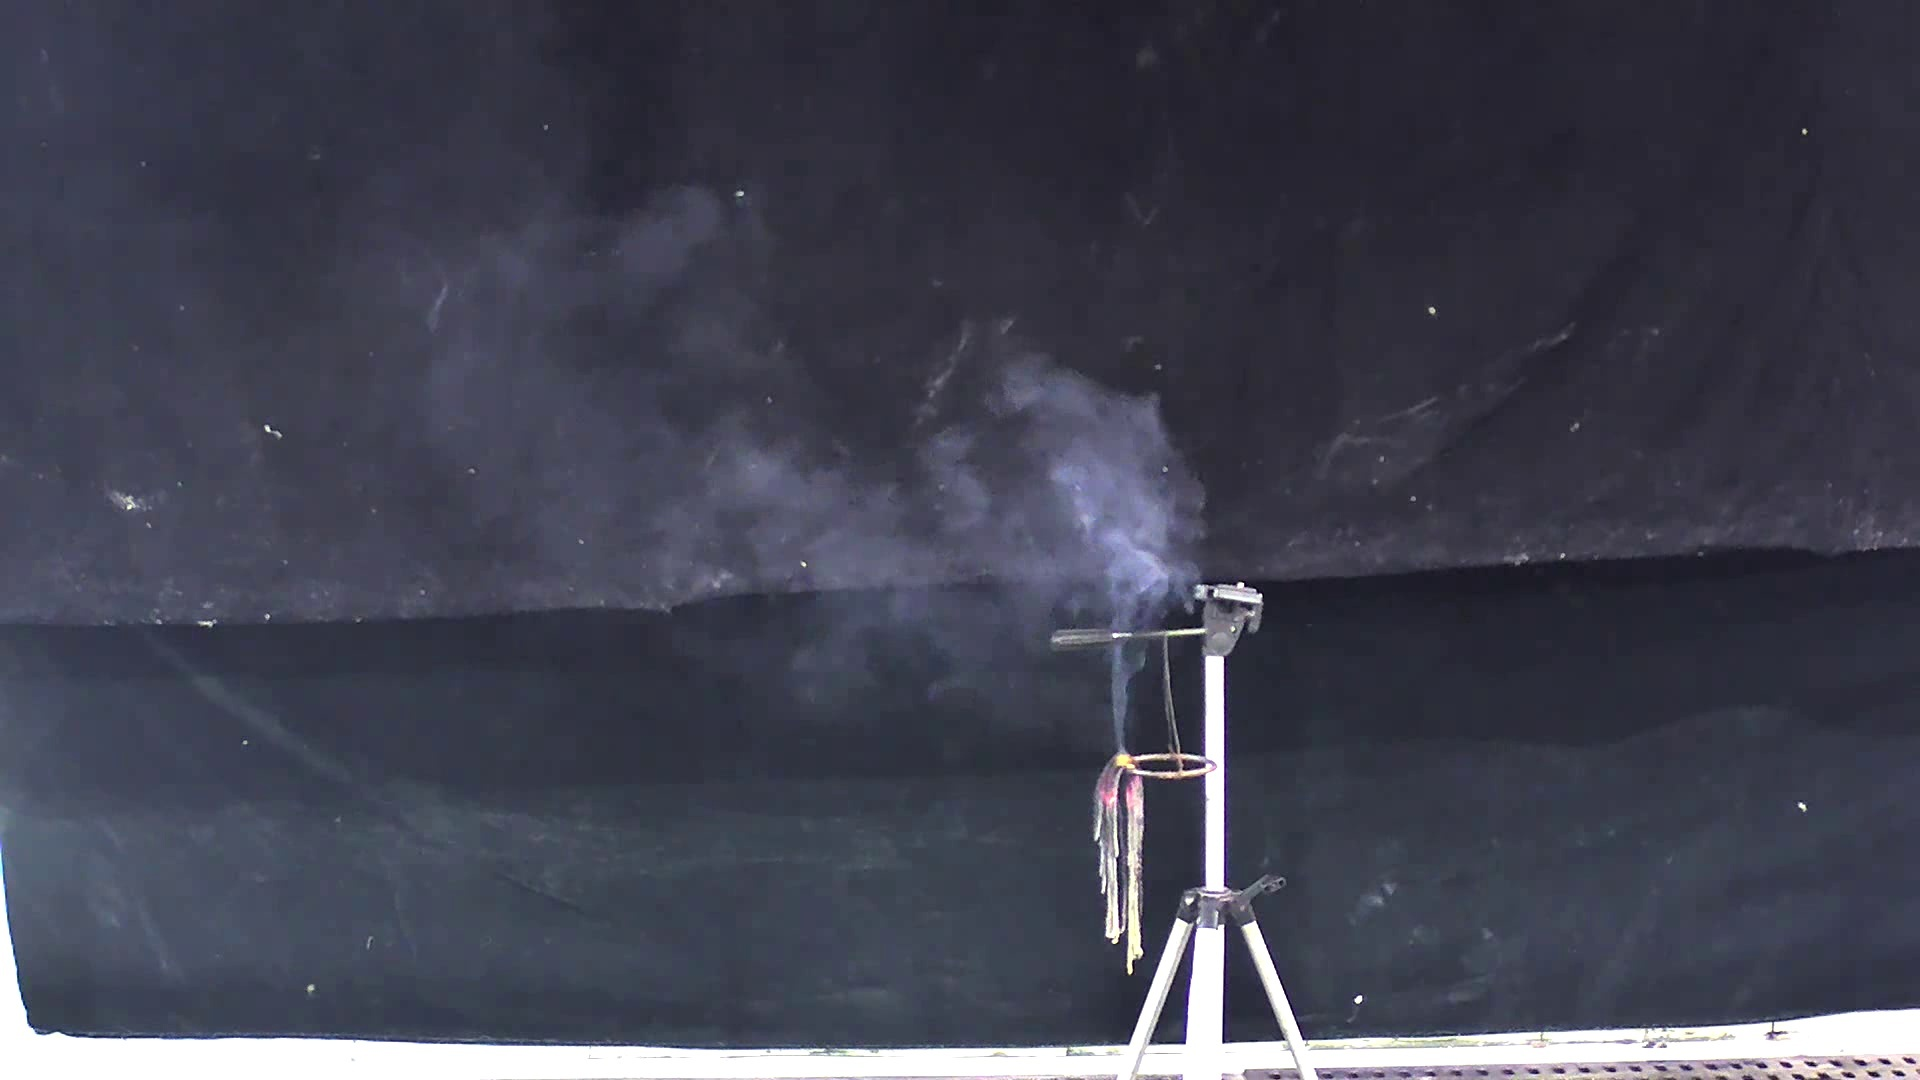smoke: (425, 170, 1208, 757)
